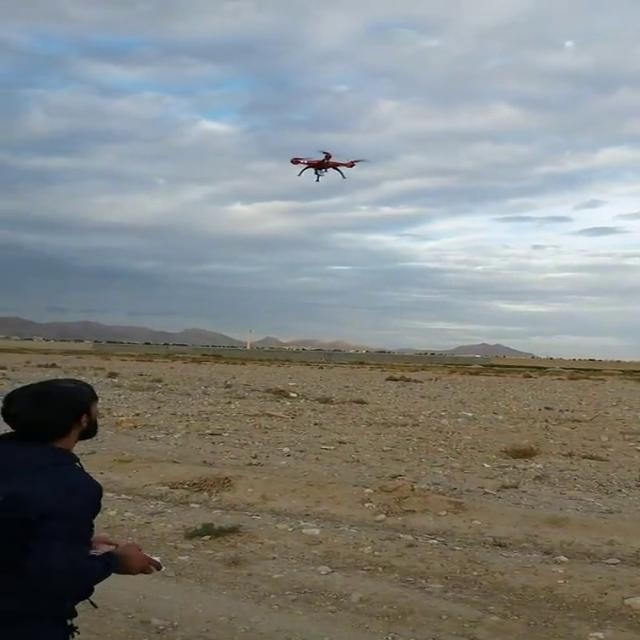drone: (278, 147, 374, 186)
